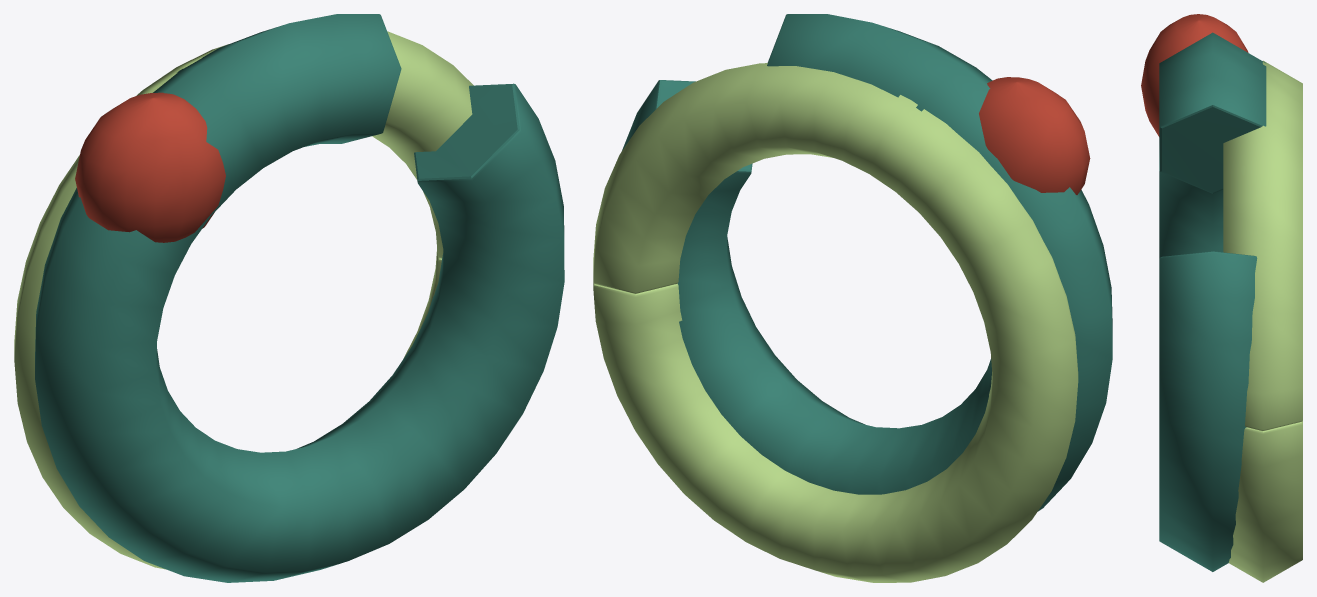
File: item_078.glb
The picture shows the model from 3 angles, left to right: view 1: azimuth 30°, elevation 25°; view 2: azimuth 150°, elevation 25°; view 3: azimuth 270°, elevation 25°; orthographic projection. The views are drawn at different scales.
Visible parts, largest first — view 1: Item_078_leech_coil_ring; view 2: Item_078_leech_coil_ring; view 3: Item_078_leech_coil_ring.
Part boxes in pixels (x1,y1,x2,y2): Item_078_leech_coil_ring: (14, 14, 564, 582); Item_078_leech_coil_ring: (593, 14, 1112, 582); Item_078_leech_coil_ring: (1141, 14, 1302, 582).
Size of the model in its own units: 0.3751 by 0.3849 by 0.1127.
